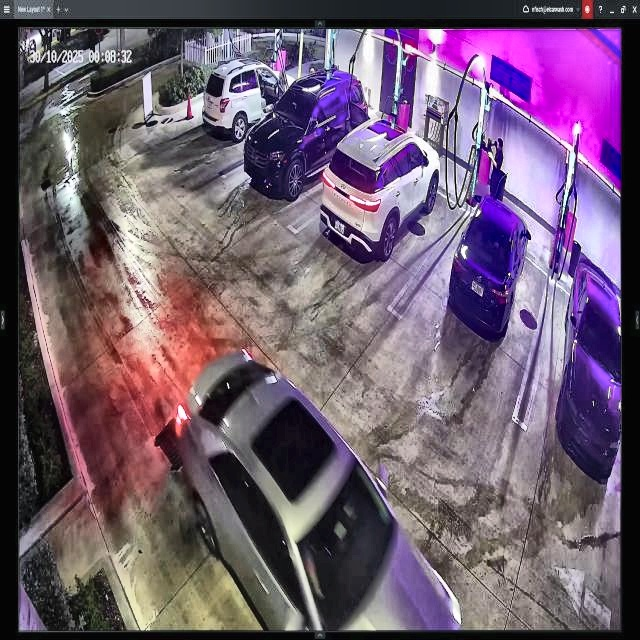Car: (174, 350, 462, 630), (322, 119, 442, 262), (244, 72, 369, 194), (449, 197, 533, 338)
